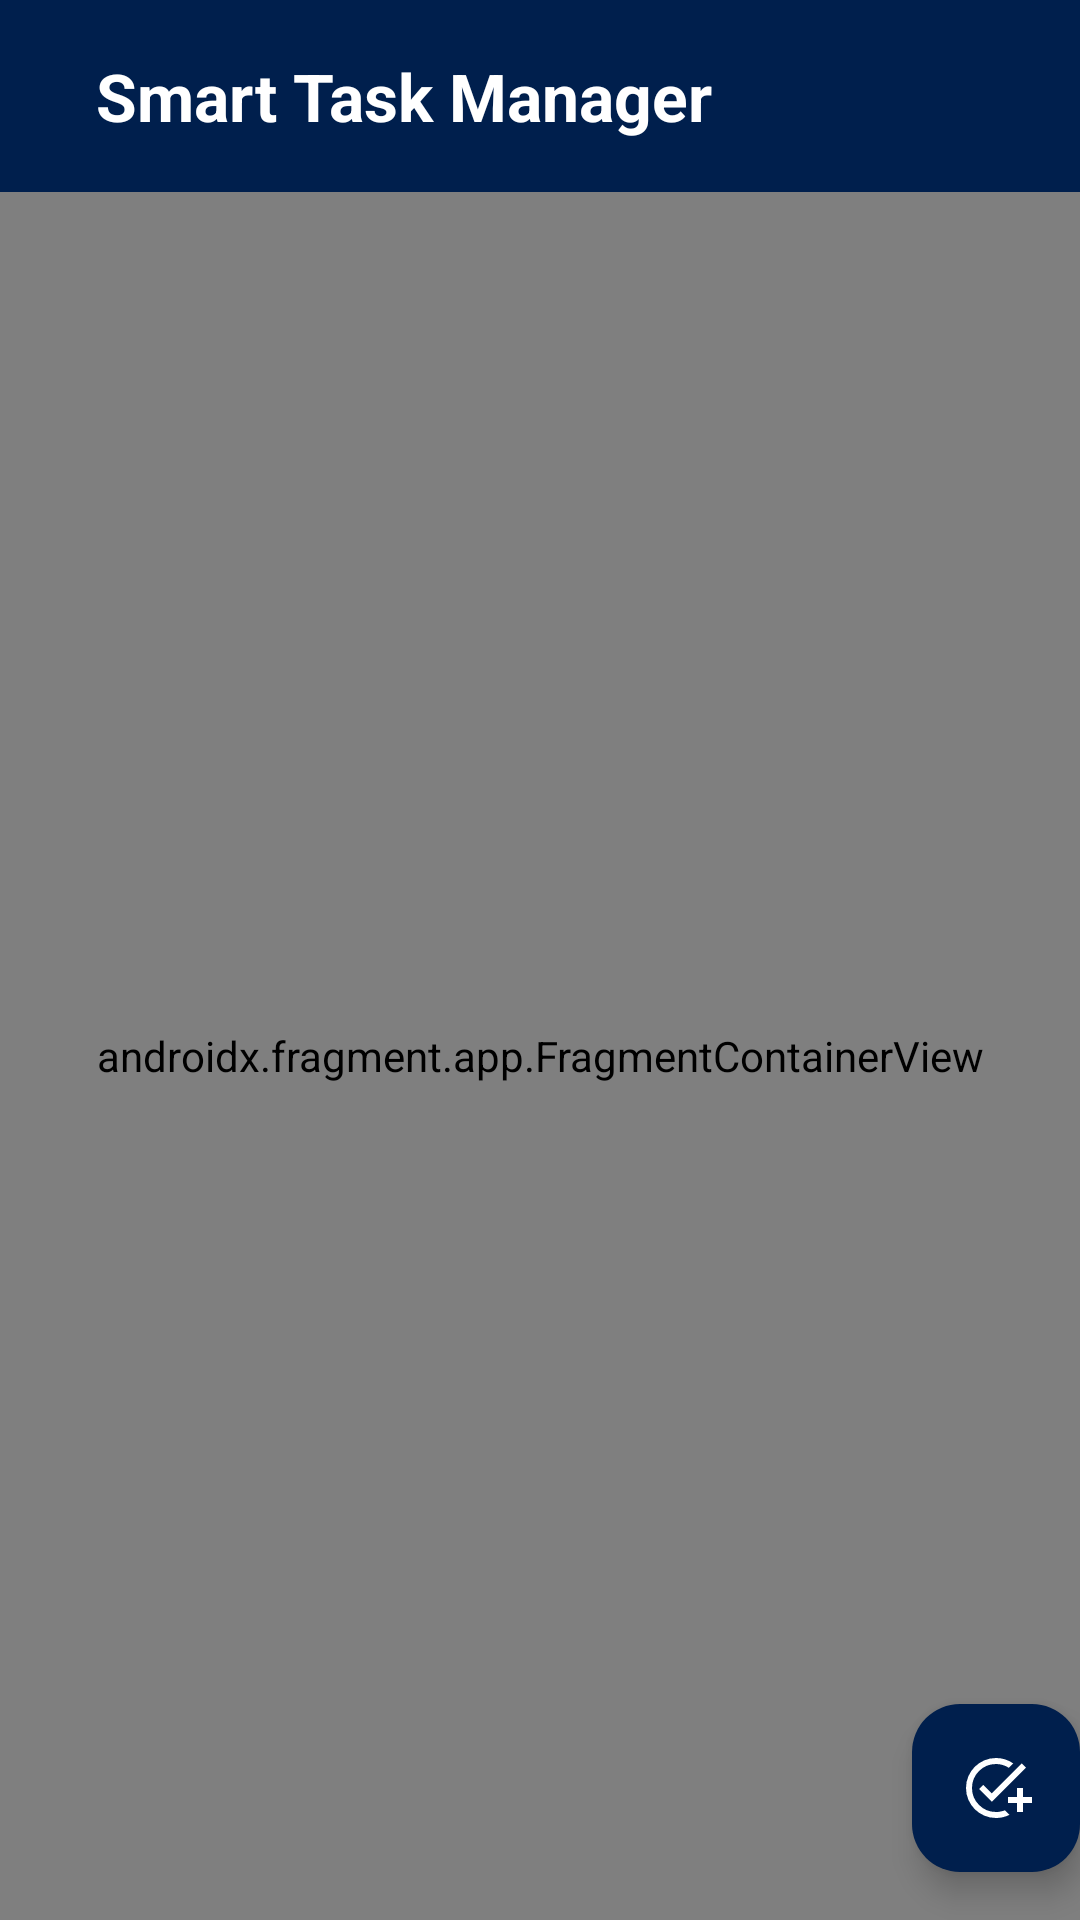

Point at icon controls on the screen. Image size 1080px×1920px, points as [x,y].
Add Task: [996,1788]
